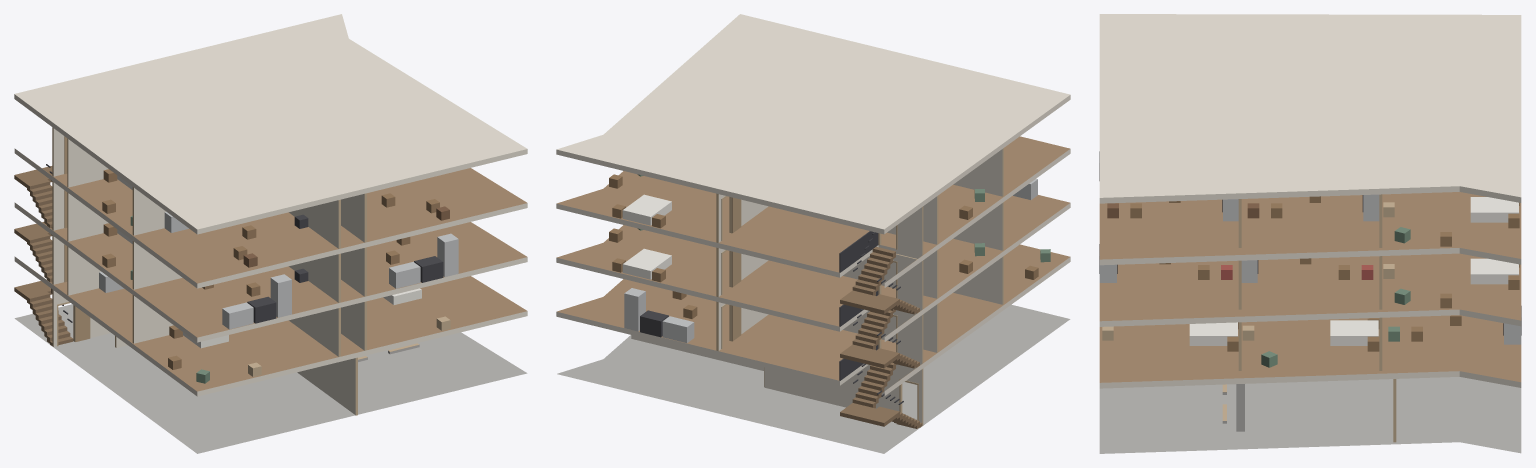
The model's file is interior.glb.
3 renders of one model, left to right at view 1: azimuth 30°, elevation 25°; view 2: azimuth 150°, elevation 25°; view 3: azimuth 270°, elevation 25°, orthographic. The views are drawn at different scales.
Parts seen in each view (by area): view 1: slabs, partitions, coarse-s2, stair, coarse-s3, coarse-s1; view 2: slabs, partitions, stair, coarse-s1, coarse-s2, coarse-s3; view 3: slabs, coarse-s1, coarse-s3, coarse-s2, partitions, coarse-s0.
Part boxes in pixels (box(x1,y1,x2,y2)): slabs: box(14, 14, 527, 453); partitions: box(52, 127, 366, 415); coarse-s2: box(102, 223, 458, 329); stair: box(14, 164, 73, 345); coarse-s3: box(102, 169, 449, 267); coarse-s1: box(99, 271, 450, 383); slabs: box(556, 14, 1070, 453); partitions: box(631, 148, 1003, 425); stair: box(839, 231, 922, 428); coarse-s1: box(624, 249, 1050, 342); coarse-s2: box(609, 178, 1037, 282); coarse-s3: box(609, 174, 984, 228); slabs: box(1099, 14, 1521, 453); coarse-s1: box(1102, 306, 1521, 367); coarse-s3: box(1107, 194, 1519, 246); coarse-s2: box(1099, 151, 1519, 308); partitions: box(1238, 194, 1396, 442); coarse-s0: box(1222, 384, 1244, 431).
Bounding box in the file's own units: 17.92 × 11.65 × 17.39.
